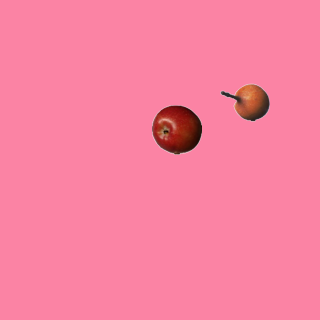Apple Braeburn: (151, 104, 201, 154)
Granadilla: (219, 77, 269, 127)
